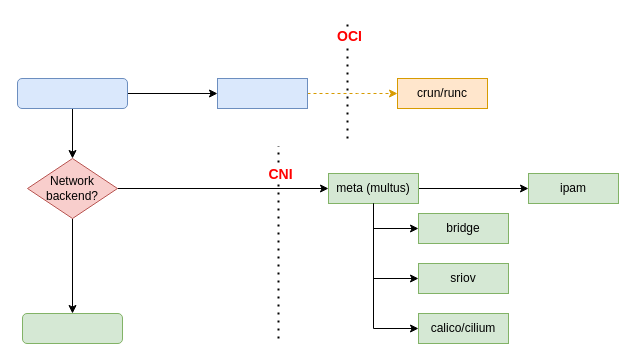
Some shapes in this 636 by 361 pixel diagram are drawn without their labels. The box of each missing label's shape, as (x1, y1, x2, y2) in pixels:
conmon: (216, 78, 308, 108)
netavark: (22, 312, 122, 344)
podman: (16, 78, 128, 108)
